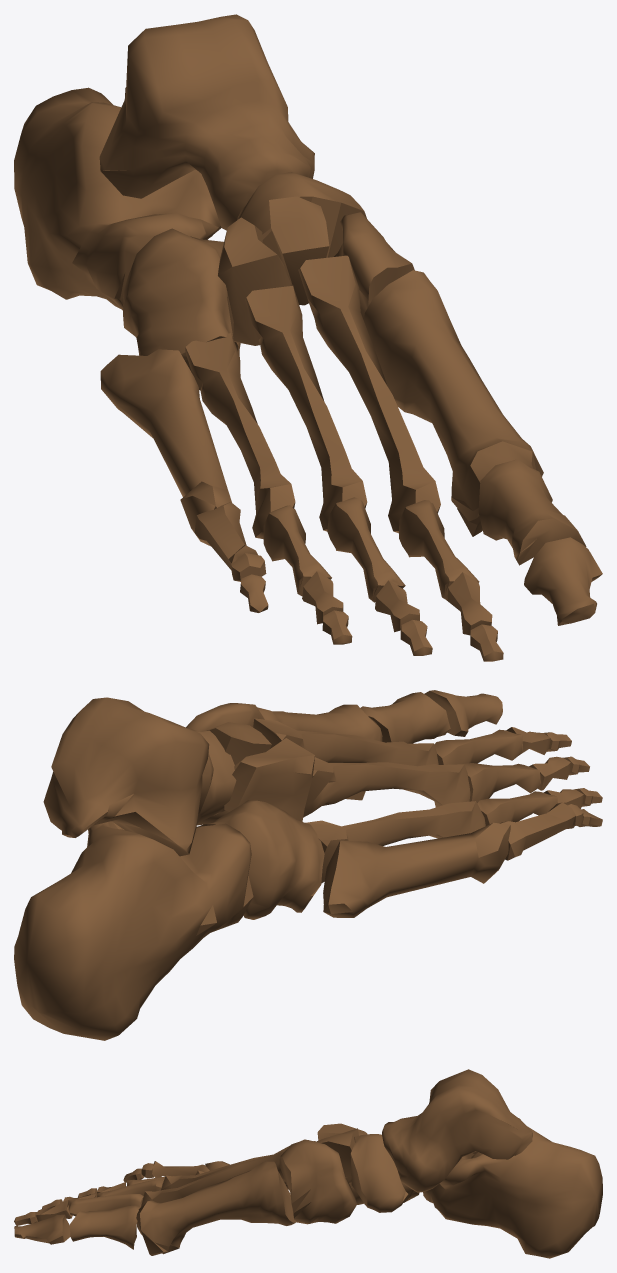
Rendered from Foot bone.FBX.
3 views of the same model, one above another, from view 1: azimuth 30°, elevation 25°; view 2: azimuth 150°, elevation 25°; view 3: azimuth 270°, elevation 25° (orthographic). The views are drawn at different scales.
Parts seen in each view (by area): view 1: Talus02, Calcaneu02, Metatars09, Metatars08, Metatars06, Cuboid02, Metatars10, Metatars07, 1mid02, Lcuneifo02, 1distal02, Navicula02 (+11 smaller); view 2: Calcaneu02, Talus02, Metatars06, Cuboid02, Metatars08, Metatars10, Metatars07, Lcuneifo02, 1mid02, Metatars09, 1distal02, Pphaln02 (+7 smaller); view 3: Calcaneu02, Talus02, Metatars09, Mcuneifo02, Navicula02, Metatars08, 1mid02, 1distal02, Icuneifo02, Metatars10, Pphaln02, Phalange04 (+3 smaller).
Part boxes in pixels (box(x1,y1,x2,y2)): Talus02: box(99, 14, 314, 230); Calcaneu02: box(14, 87, 221, 310); Metatars09: box(364, 270, 543, 536); Metatars08: box(298, 255, 479, 600); Metatars06: box(100, 349, 231, 546); Cuboid02: box(123, 228, 240, 389); Metatars10: box(245, 285, 367, 531); Metatars07: box(185, 333, 295, 539); 1mid02: box(478, 459, 586, 565); Lcuneifo02: box(218, 217, 290, 345); 1distal02: box(524, 537, 602, 625); Navicula02: box(237, 172, 366, 260); Calcaneu02: box(14, 821, 253, 1040); Talus02: box(43, 697, 213, 856); Metatars06: box(323, 822, 510, 917); Cuboid02: box(197, 800, 324, 919); Metatars08: box(253, 718, 522, 793); Metatars10: box(303, 757, 470, 817); Metatars07: box(305, 801, 485, 883); Lcuneifo02: box(224, 738, 314, 821); 1mid02: box(360, 692, 450, 743); Metatars09: box(257, 704, 382, 800); 1distal02: box(424, 690, 502, 736); Pphaln02: box(464, 763, 540, 802); Calcaneu02: box(423, 1126, 602, 1258); Talus02: box(382, 1069, 532, 1192); Metatars09: box(136, 1161, 296, 1255); Mcuneifo02: box(279, 1140, 357, 1224); Navicula02: box(350, 1134, 408, 1212); Metatars08: box(68, 1139, 306, 1216); 1mid02: box(70, 1205, 140, 1249); 1distal02: box(14, 1214, 70, 1244); Icuneifo02: box(316, 1128, 358, 1177); Metatars10: box(161, 1141, 315, 1190); Pphaln02: box(97, 1179, 163, 1197); Phalange04: box(152, 1161, 209, 1177).
Bounding box in the file's own units: 4.25 × 3.72 × 11.27.
